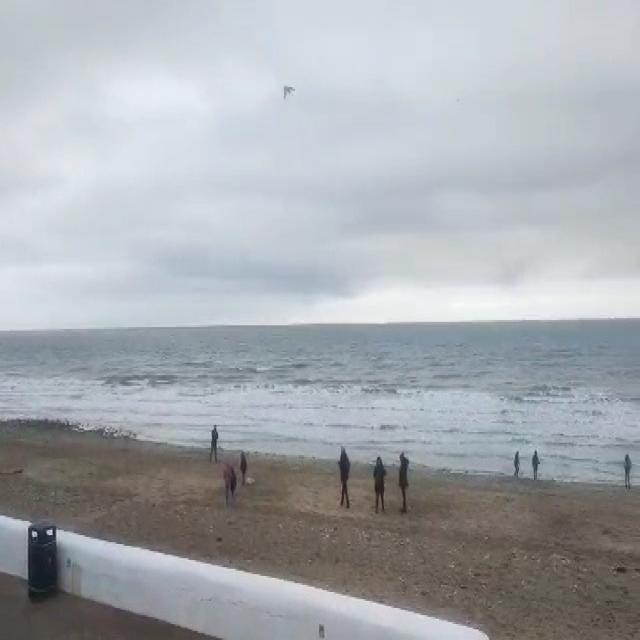person: (335, 443, 358, 514), (369, 450, 389, 519), (396, 448, 414, 516), (204, 417, 222, 467), (236, 448, 254, 491), (225, 459, 242, 503), (218, 471, 233, 508), (621, 448, 633, 490), (530, 448, 543, 480), (512, 445, 523, 480)
